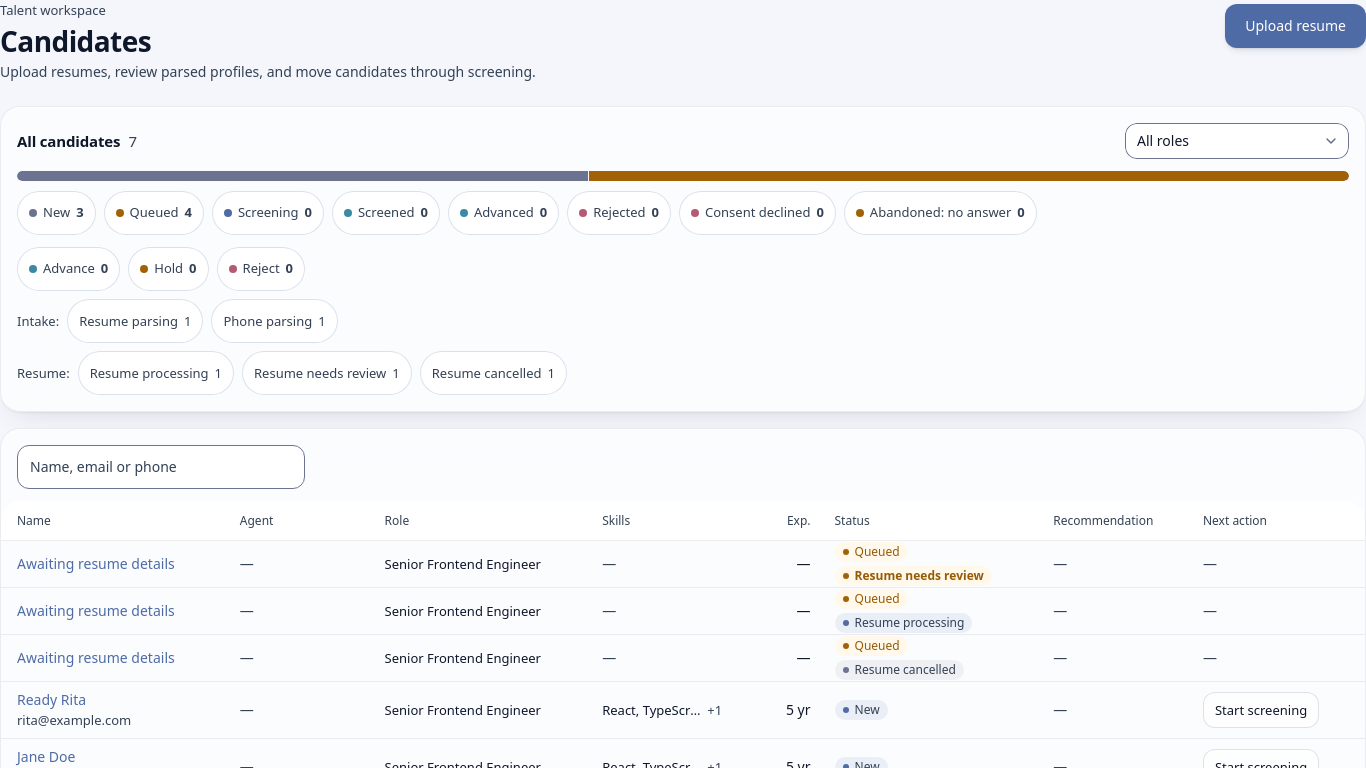
Scenario: CandidatesPage — intake type (M017) › toggles the facet, shows an "Intake:" chip, and clears with Clear all
Click the button "Phone parsing 1" at [275, 321], box [212, 299, 338, 343]
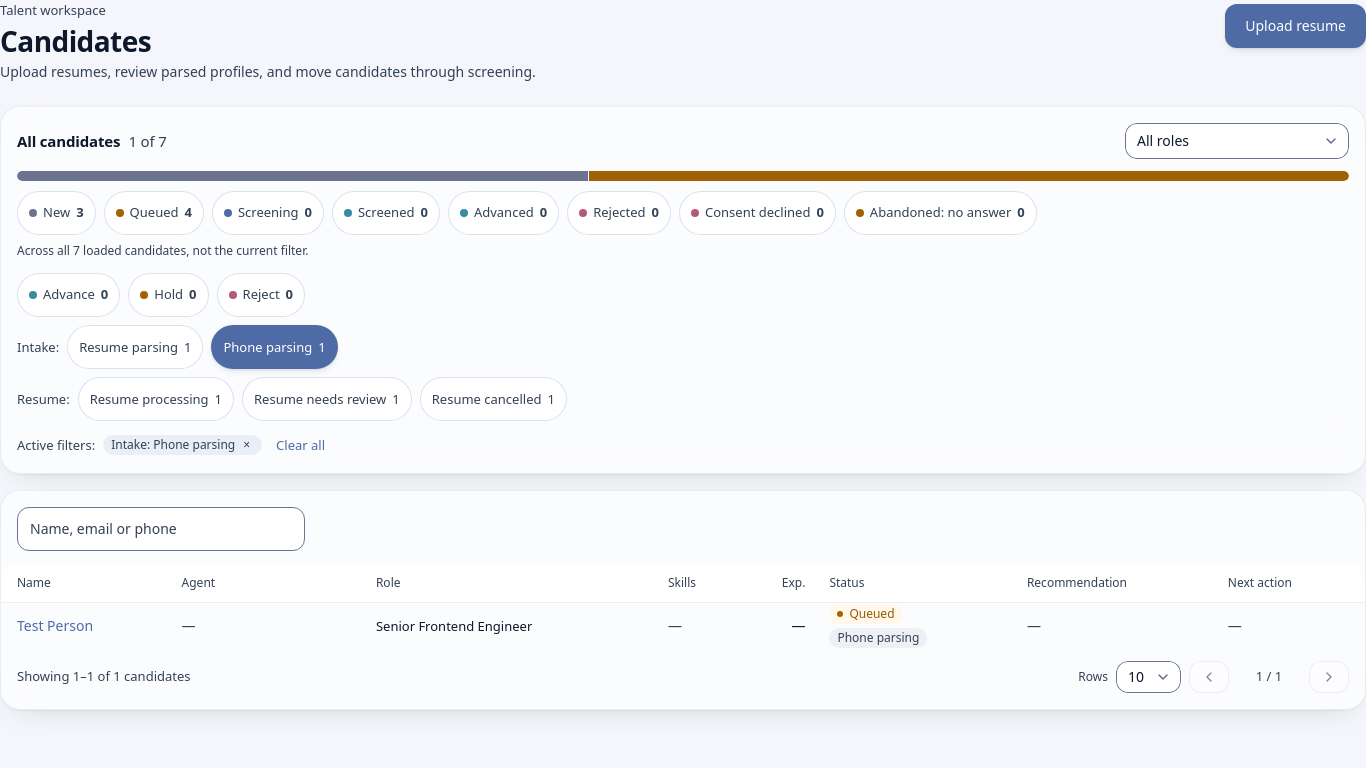
Now the text "1 of 7" is shown, box [128, 131, 167, 151]
Now the link "Jane Doe" is gone
Now the button named "Remove filter Intake: Phone parsing" is shown, box [239, 437, 254, 453]
Click the button "Clear all" at [301, 445], box [270, 433, 331, 457]
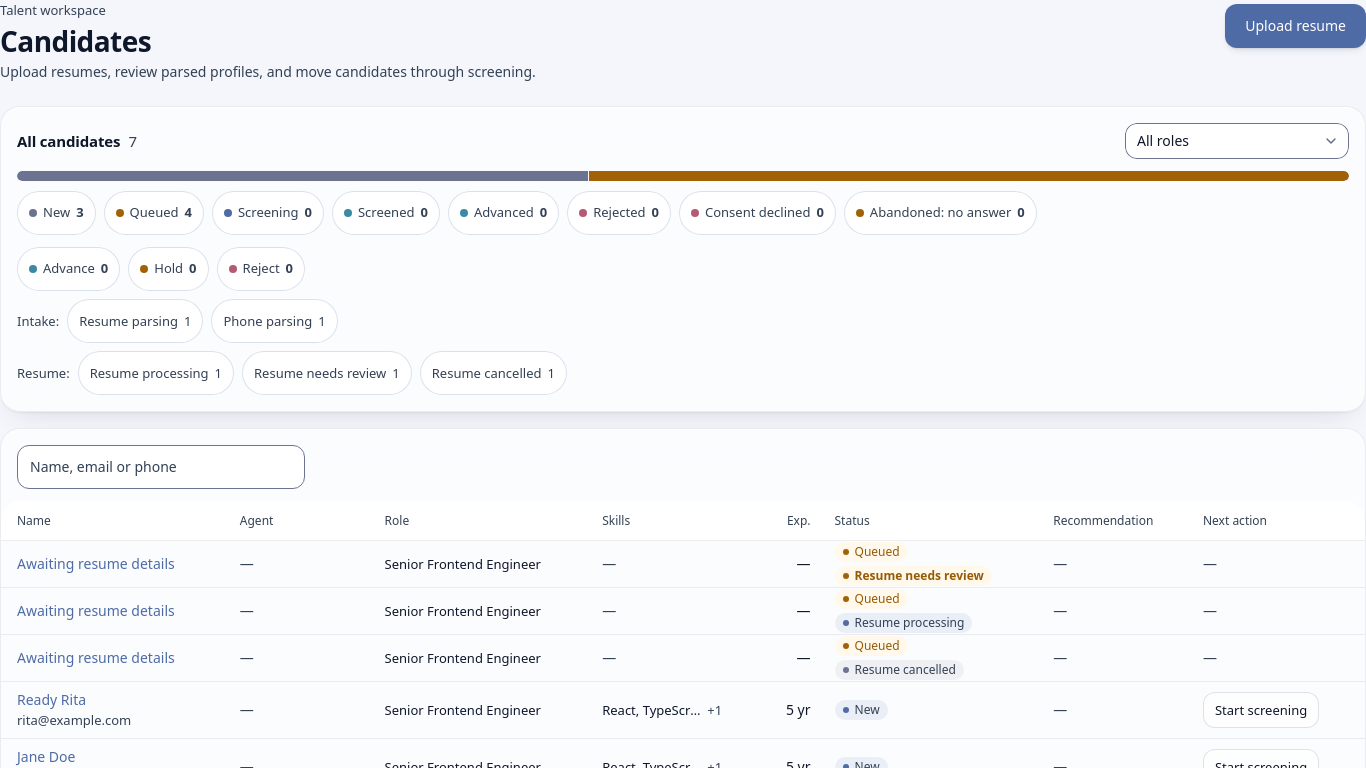
Now the link "Jane Doe" is shown, box [17, 747, 76, 766]
